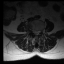CCS_normal: (35, 28, 37, 36)
LFS_stenosis: (39, 28, 42, 33)
LLS_normal: (37, 29, 39, 35)
RFS_normal: (31, 28, 33, 34)
RLS_normal: (33, 29, 35, 35)
